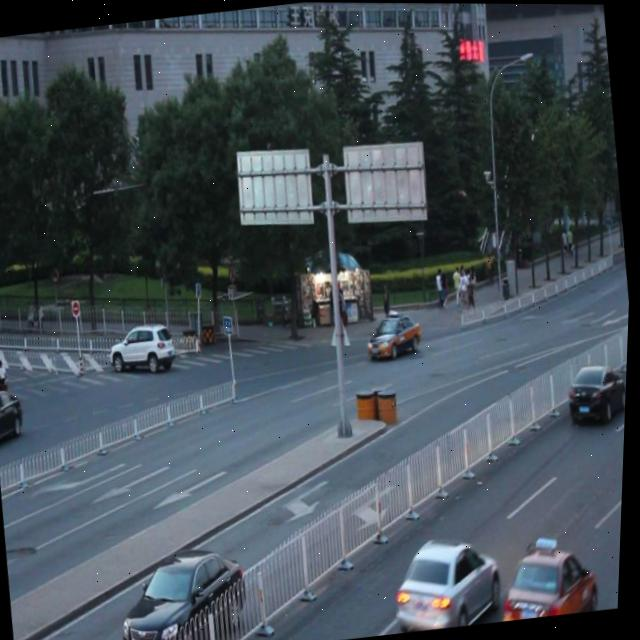car: (115, 542, 258, 640), (392, 525, 509, 633), (500, 532, 604, 621), (566, 357, 630, 424), (108, 322, 181, 376), (365, 309, 426, 359), (0, 383, 31, 450)
